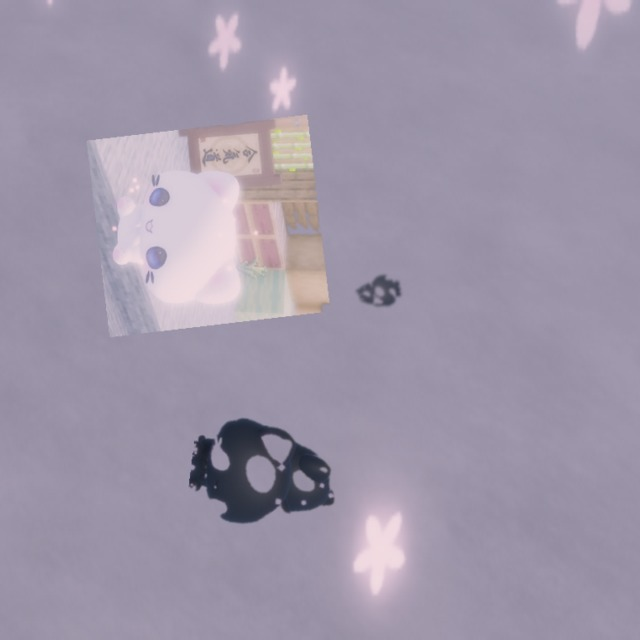urso_branco: (86, 114, 331, 338)
urso_preto: (183, 408, 354, 546), (350, 269, 404, 315)
